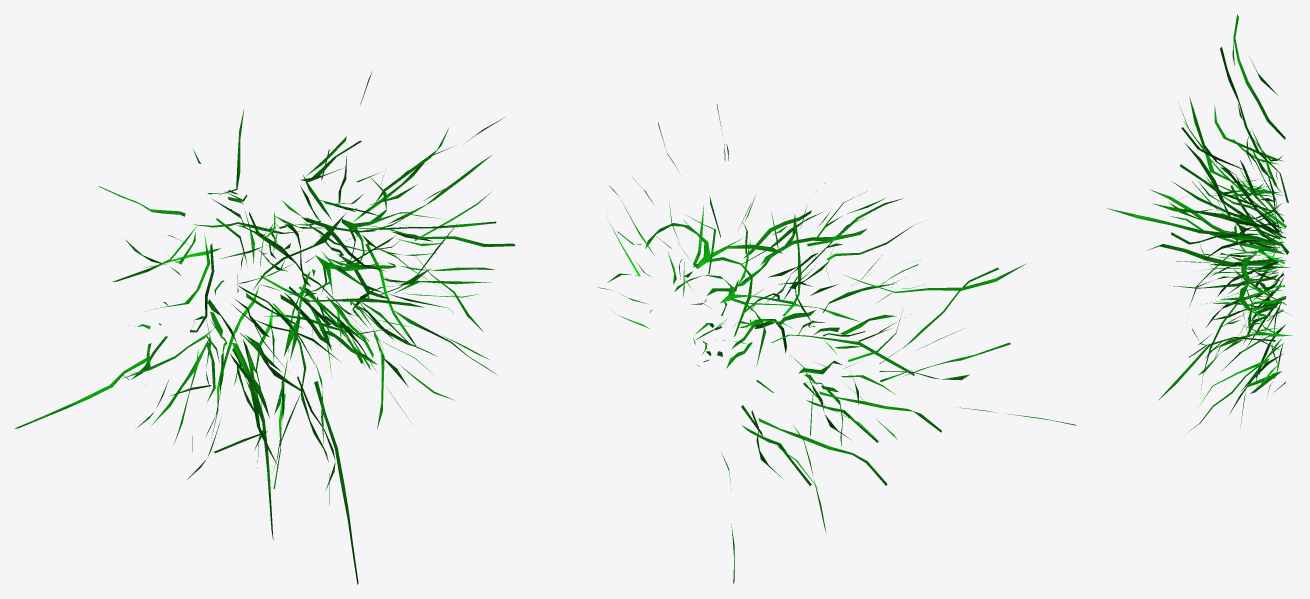
Rendered from TundraGrass_LOD1_Var3.gltf.
3 views of the same model, side by side, from view 1: azimuth 30°, elevation 25°; view 2: azimuth 150°, elevation 25°; view 3: azimuth 270°, elevation 25° (orthographic). The views are drawn at different scales.
Visible parts, largest first — view 1: lods_0; view 2: lods_0; view 3: lods_0.
Part boxes in pixels (x1=…): lods_0: x1=14, y1=71, x2=515, y2=584; lods_0: x1=597, y1=104, x2=1076, y2=583; lods_0: x1=1107, y1=14, x2=1292, y2=431.
Bounding box in the file's own units: 1.12 × 1.17 × 0.3654.
1 material, 1 textured.
